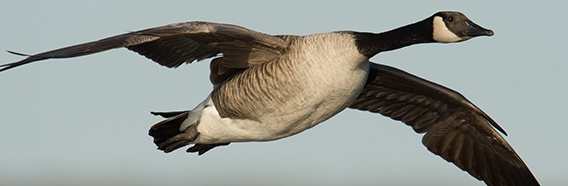goose: (2, 4, 542, 186)
